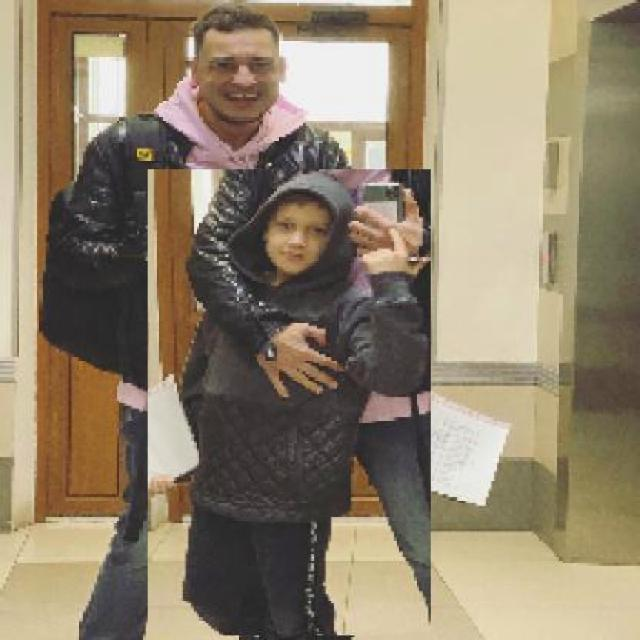child: (146, 169, 431, 637)
